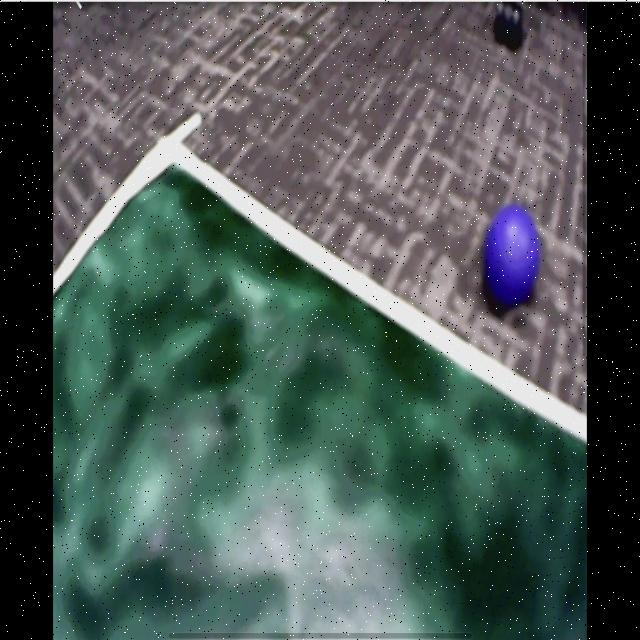ball: (488, 209, 540, 302)
